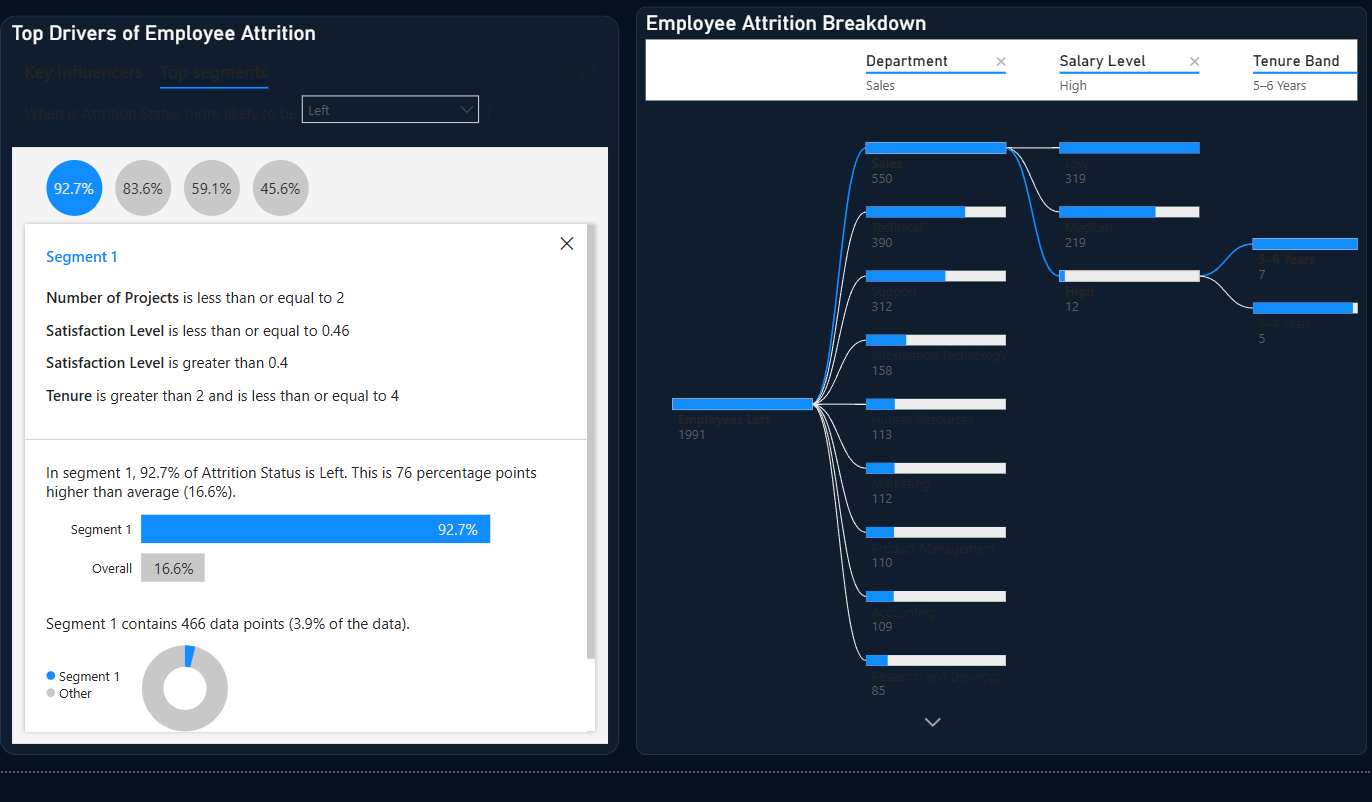

The page's visual inventory and layout, read from the dashboard file:
{"tool":"powerbi","page":{"name":"Attrition Drivers","canvas":[1280,720],"ordinal":1},"visuals":[{"type":"keyDriversVisual","title":"Top Drivers of Employee Attrition ","fields":{"Target":["HR Employees. Attrition Status"],"ExplainBy":["HR Employees.Satisfaction Level","HR Employees.Number of Projects","HR Employees.Average Monthly Hours","HR Employees.Tenure","HR Employees.Last Evaluation","HR Employees.Salary Level","HR Employees.Department","HR Employees.Promotion Status","HR Employees.Work Accident Status"]},"box":[0,16,576,688],"z":0},{"type":"decompositionTreeVisual","title":"Employee Attrition Breakdown ","fields":{"Analyze":["Measures (2).Employees Left"],"ExplainBy":["HR Employees.Department","HR Employees.Salary Level","HR Employees.Tenure Band","HR Employees.Project Load","HR Employees.Satisfaction Band","HR Employees.Workload Band","HR Employees.Promotion Status","HR Employees.Work Accident Status"]},"box":[592,8,680,696],"z":1000}]}

Visuals, with their boxes on the page's 1280x720 design canvas (x1, y1, x2, y2). These are canvas units, not pixel positions in the 1372x802 screenshot, which may show the page scaled, cropped or inside an application window:
"Top Drivers of Employee Attrition " keyDriversVisual: {"left": 0, "top": 16, "right": 576, "bottom": 704}
"Employee Attrition Breakdown " decompositionTreeVisual: {"left": 592, "top": 8, "right": 1272, "bottom": 704}
